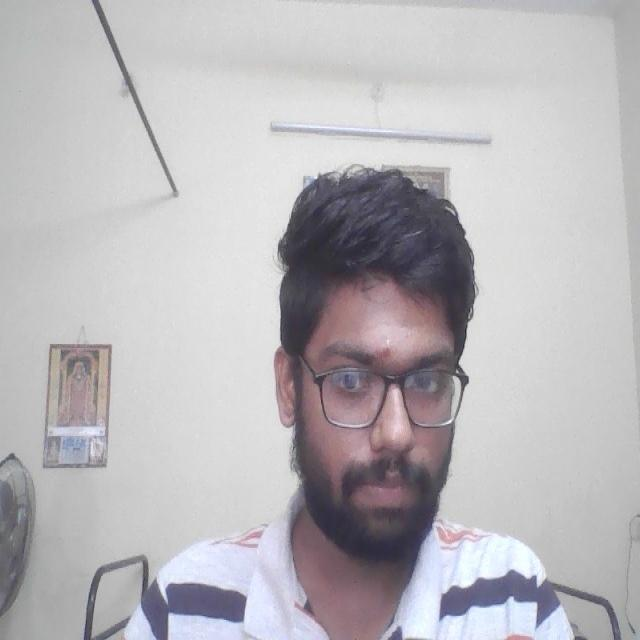Focused: (279, 278, 466, 531)
